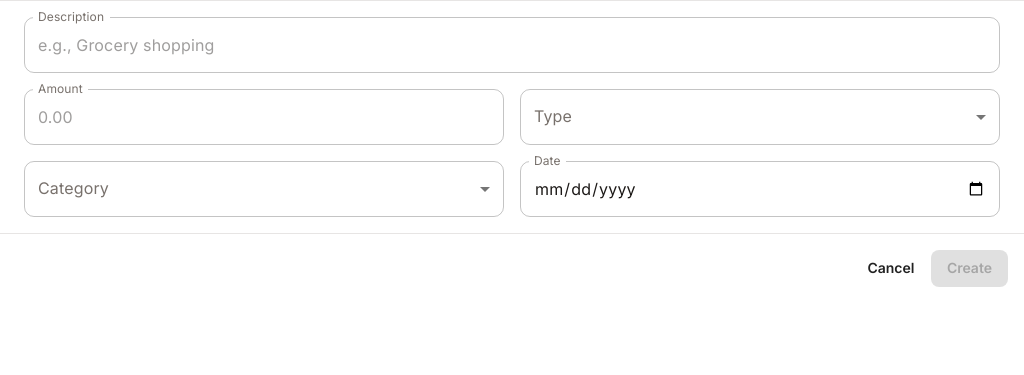
TransactionForm › requires a description, category and date
Type "10" into the number field labelled "Amount". click: (264, 117)
box: [24,89,504,145]
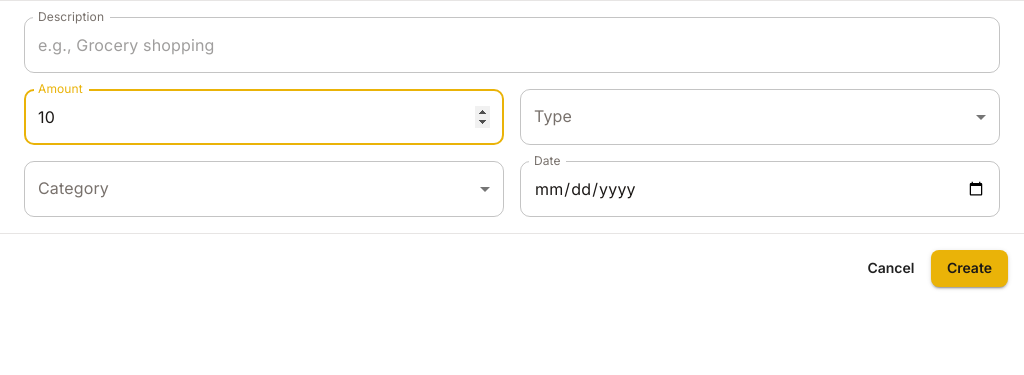
Click the button "Create". click: (969, 268)
box: [931,250,1008,286]
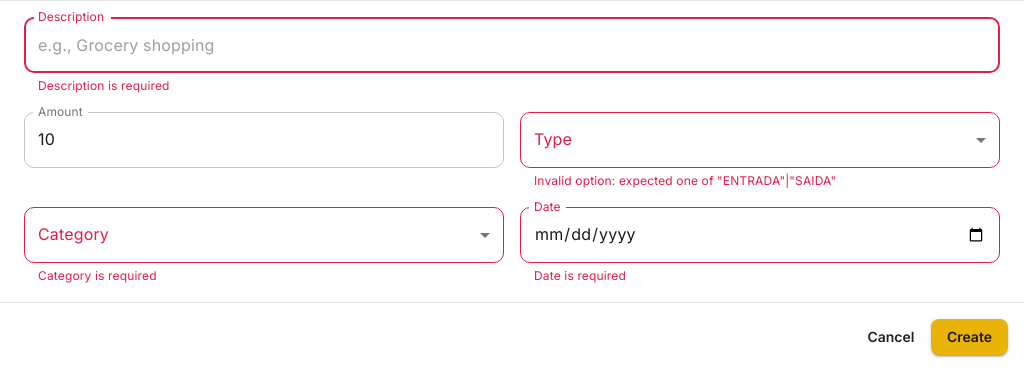
Expected: the text "Description is required" is shown, [38,78,170,93]
Expected: the text "Category is required" is shown, [38,268,157,283]
Expected: the text "Date is required" is shown, [534,268,626,283]
